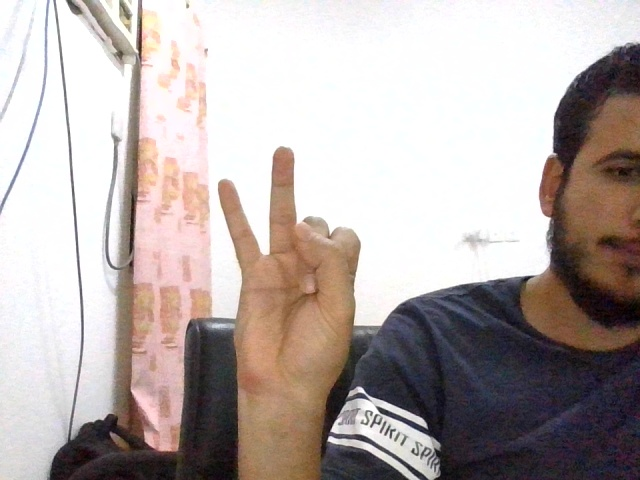Two: (216, 146, 364, 397)
